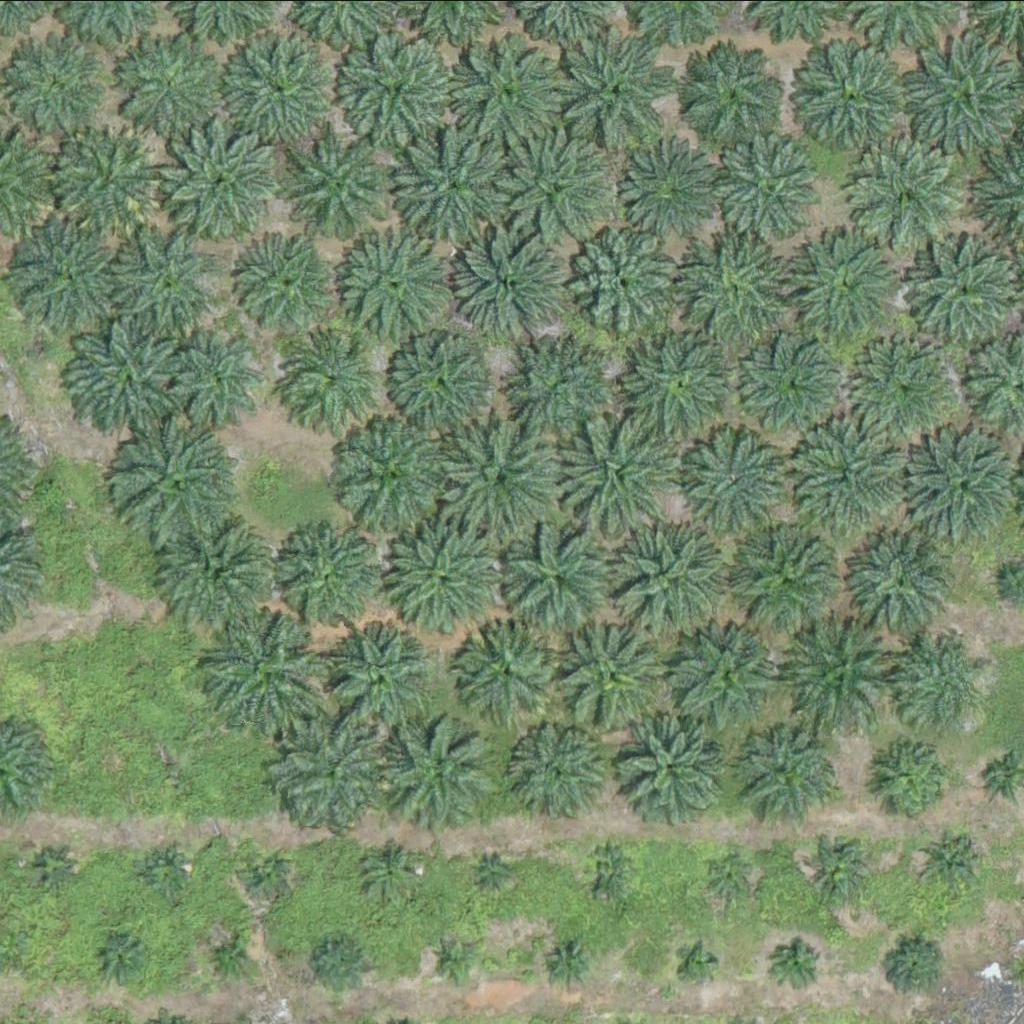Kelapa_Sawit: (66, 315, 192, 440), (119, 421, 245, 546), (204, 604, 330, 729), (437, 414, 563, 539), (327, 412, 453, 537), (678, 226, 804, 351), (788, 216, 914, 341), (605, 517, 731, 642), (553, 410, 679, 535), (896, 231, 1022, 356), (158, 514, 272, 627), (790, 414, 904, 527), (160, 120, 273, 233), (287, 123, 400, 236), (400, 129, 513, 242), (334, 230, 447, 343), (508, 130, 621, 243), (451, 36, 564, 149), (385, 524, 498, 637), (502, 525, 615, 638), (791, 38, 904, 151), (566, 32, 679, 145), (611, 136, 724, 249), (846, 528, 959, 641), (846, 336, 959, 449), (456, 230, 570, 342), (734, 523, 848, 635), (790, 615, 904, 727), (674, 619, 788, 731), (557, 616, 671, 728), (846, 137, 960, 249), (906, 37, 1020, 149), (112, 30, 225, 142), (222, 29, 335, 141), (338, 31, 451, 143), (277, 716, 390, 828), (383, 707, 496, 819), (720, 128, 833, 240), (569, 222, 682, 334), (623, 327, 736, 439), (5, 35, 106, 135), (55, 129, 156, 229), (17, 219, 118, 319), (115, 231, 216, 331), (236, 235, 337, 335), (168, 329, 269, 429), (327, 626, 428, 726), (455, 620, 556, 720), (683, 43, 784, 143), (751, 336, 852, 436), (691, 424, 792, 524), (283, 331, 383, 431), (392, 333, 492, 433), (515, 348, 615, 448), (276, 527, 376, 627), (621, 715, 721, 815), (747, 727, 847, 827), (870, 738, 958, 825), (517, 723, 605, 810), (897, 638, 985, 725), (922, 827, 985, 890), (881, 932, 944, 995), (309, 932, 372, 995), (812, 834, 875, 896), (772, 939, 823, 989), (366, 846, 417, 896), (201, 930, 252, 980), (584, 841, 634, 891), (92, 932, 142, 982), (239, 846, 289, 896), (29, 843, 79, 893), (140, 847, 190, 897), (429, 935, 479, 985), (703, 852, 753, 902), (543, 936, 593, 986), (678, 944, 716, 982), (484, 859, 509, 884)
